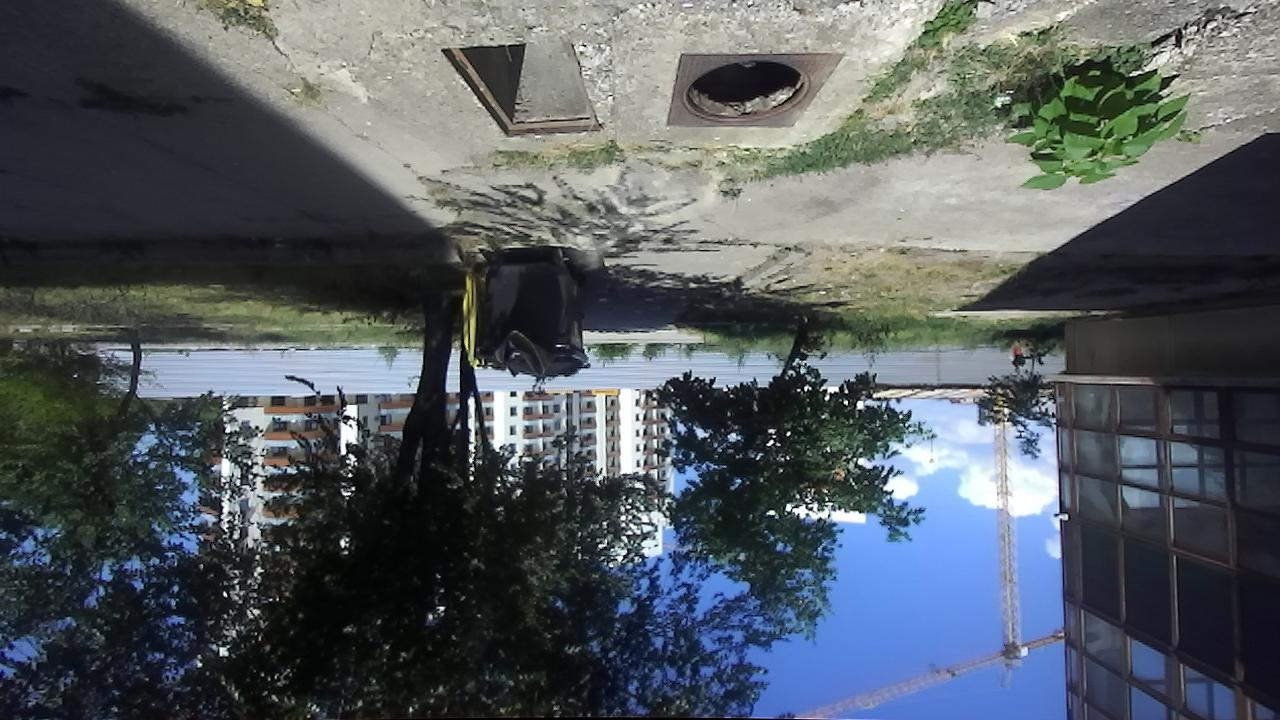drain: (438, 42, 605, 142), (681, 56, 814, 125)
